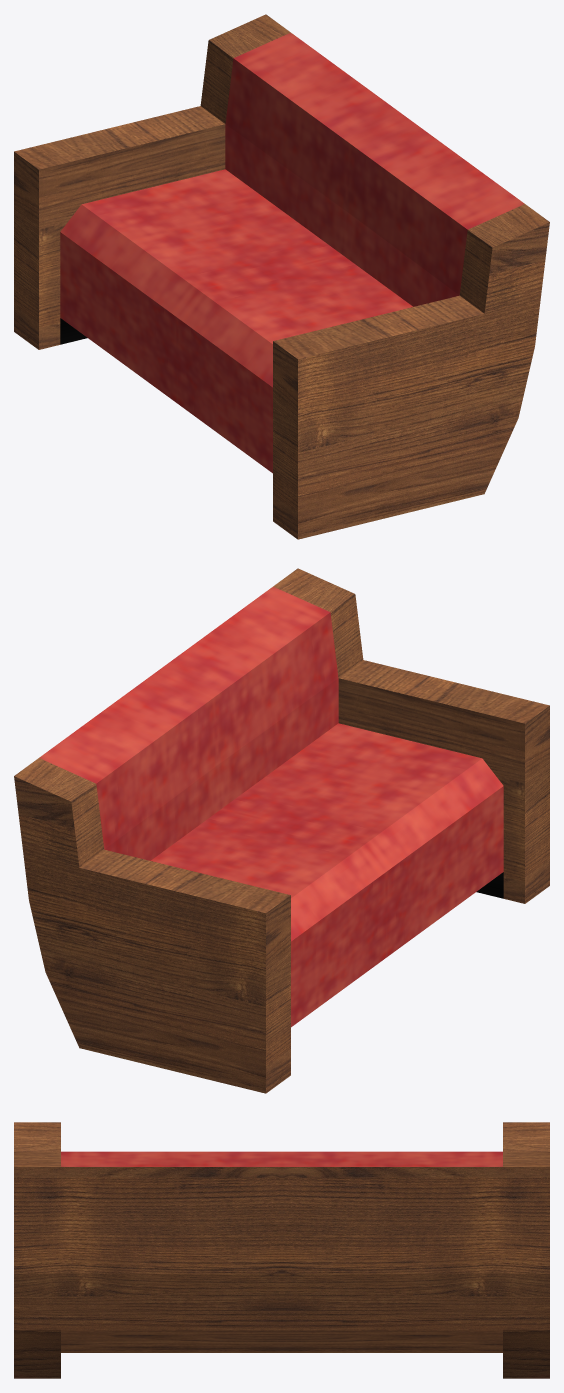
Rendered from couch.FBX.
3 views of the same model, one above another, from view 1: azimuth 30°, elevation 25°; view 2: azimuth 150°, elevation 25°; view 3: azimuth 270°, elevation 25° (orthographic). The views are drawn at different scales.
Visible parts, largest first — view 1: Box001; view 2: Box001; view 3: Box001.
Boxes of the visible parts, bbox=[...] form: Box001: bbox=[14, 14, 549, 539]; Box001: bbox=[14, 568, 549, 1093]; Box001: bbox=[14, 1122, 549, 1378].
Bounding box in the file's own units: 29.25 × 28.4 × 57.09.
